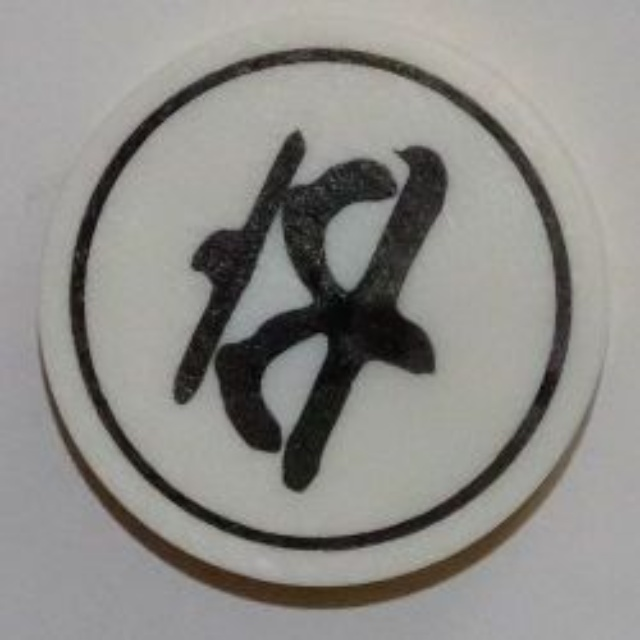black_chot: (40, 13, 617, 597)
